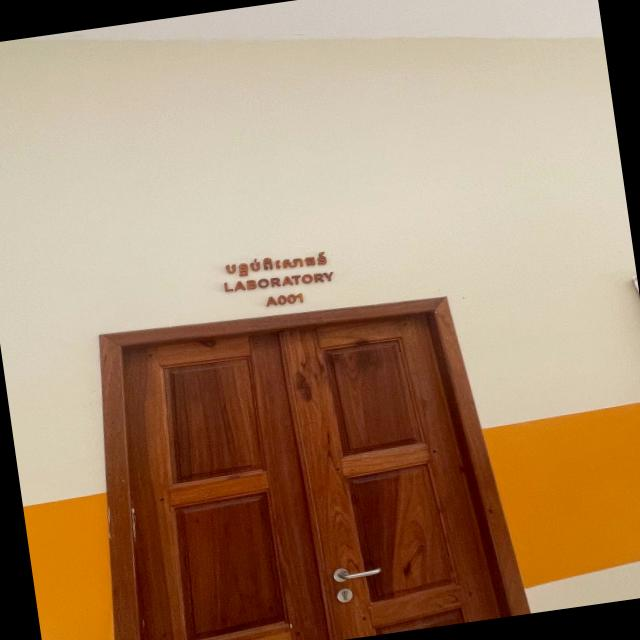208: (274, 290, 310, 308)
Yolov11_80vkh: (217, 249, 329, 281)
